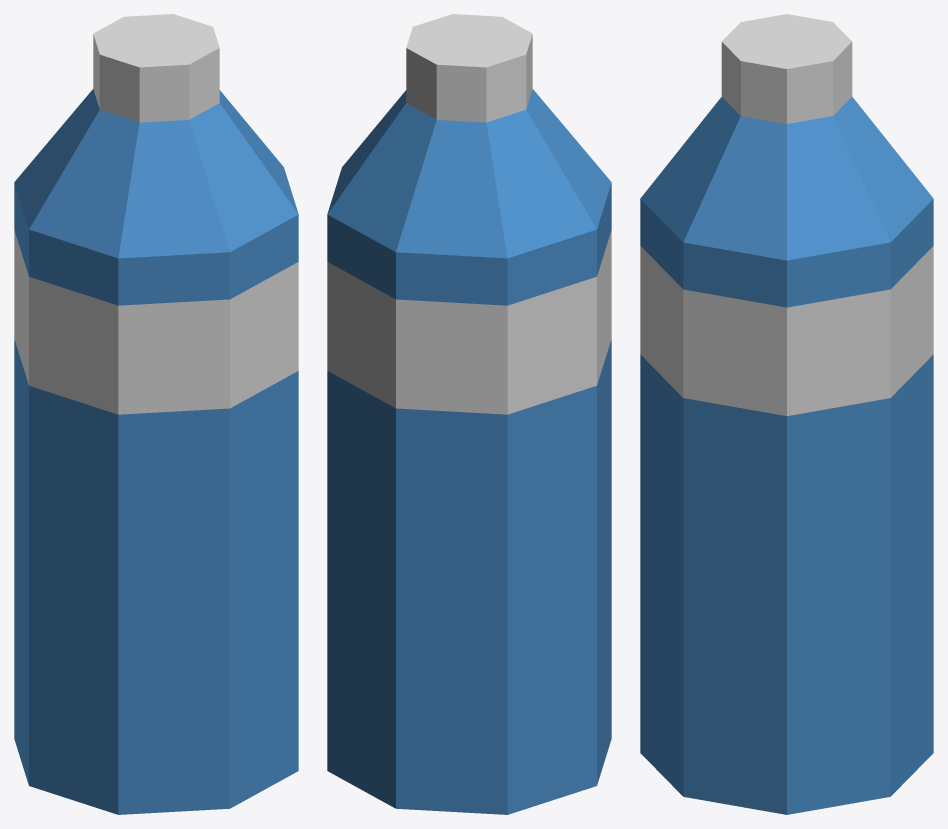
Rendered from bottiglinaPlastica.fbx.
3 views of the same model, side by side, from view 1: azimuth 30°, elevation 25°; view 2: azimuth 150°, elevation 25°; view 3: azimuth 270°, elevation 25° (orthographic).
Visible parts, largest first — view 1: Water_bottle_01; view 2: Water_bottle_01; view 3: Water_bottle_01.
Part boxes in pixels (<box>): Water_bottle_01: <box>14,14,298,814</box>; Water_bottle_01: <box>327,14,611,814</box>; Water_bottle_01: <box>640,14,933,814</box>.
Bounding box in the file's own units: 60.18 × 161 × 60.18.
Materials: 1 (1 with a texture image).
